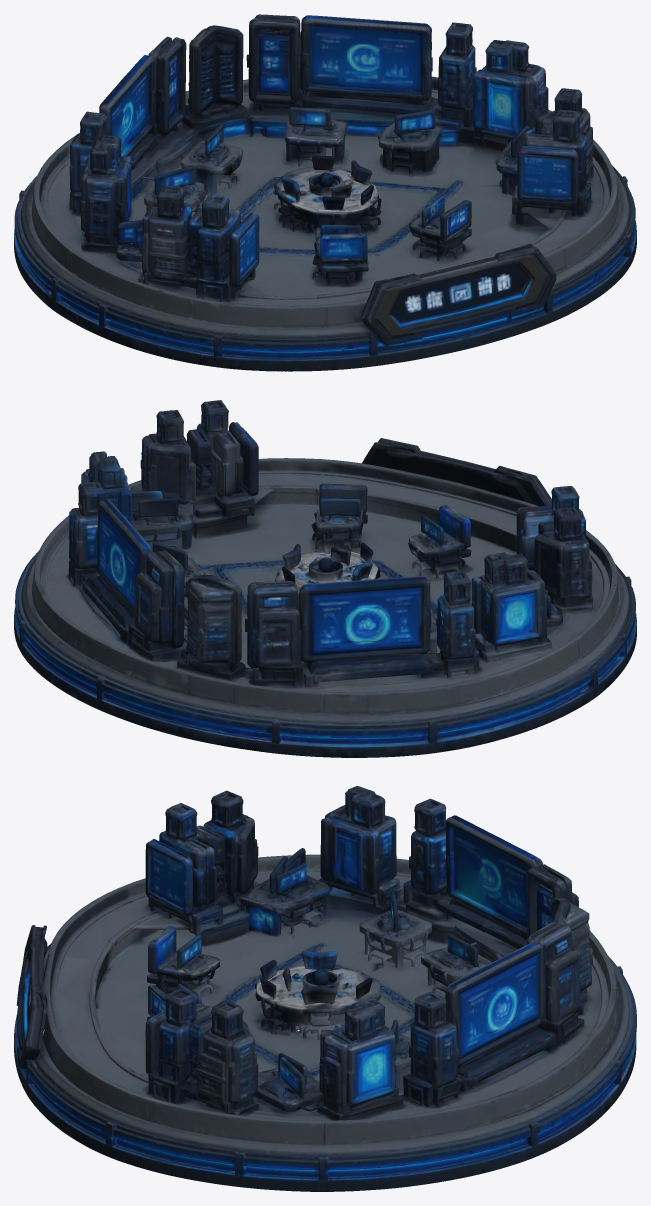
The model's file is central-model.glb.
3 views of the same model, one above another, from view 1: azimuth 30°, elevation 25°; view 2: azimuth 150°, elevation 25°; view 3: azimuth 270°, elevation 25° (orthographic). The views are drawn at different scales.
Parts seen in each view (by area): view 1: node_0; view 2: node_0; view 3: node_0.
Boxes of the visible parts, box(x1,y1,x2,y2) form: node_0: box(14, 14, 636, 371); node_0: box(14, 400, 636, 757); node_0: box(14, 786, 636, 1191).
Size of the model in its own units: 1.17 by 0.2826 by 1.07.
1 material, 1 textured.
